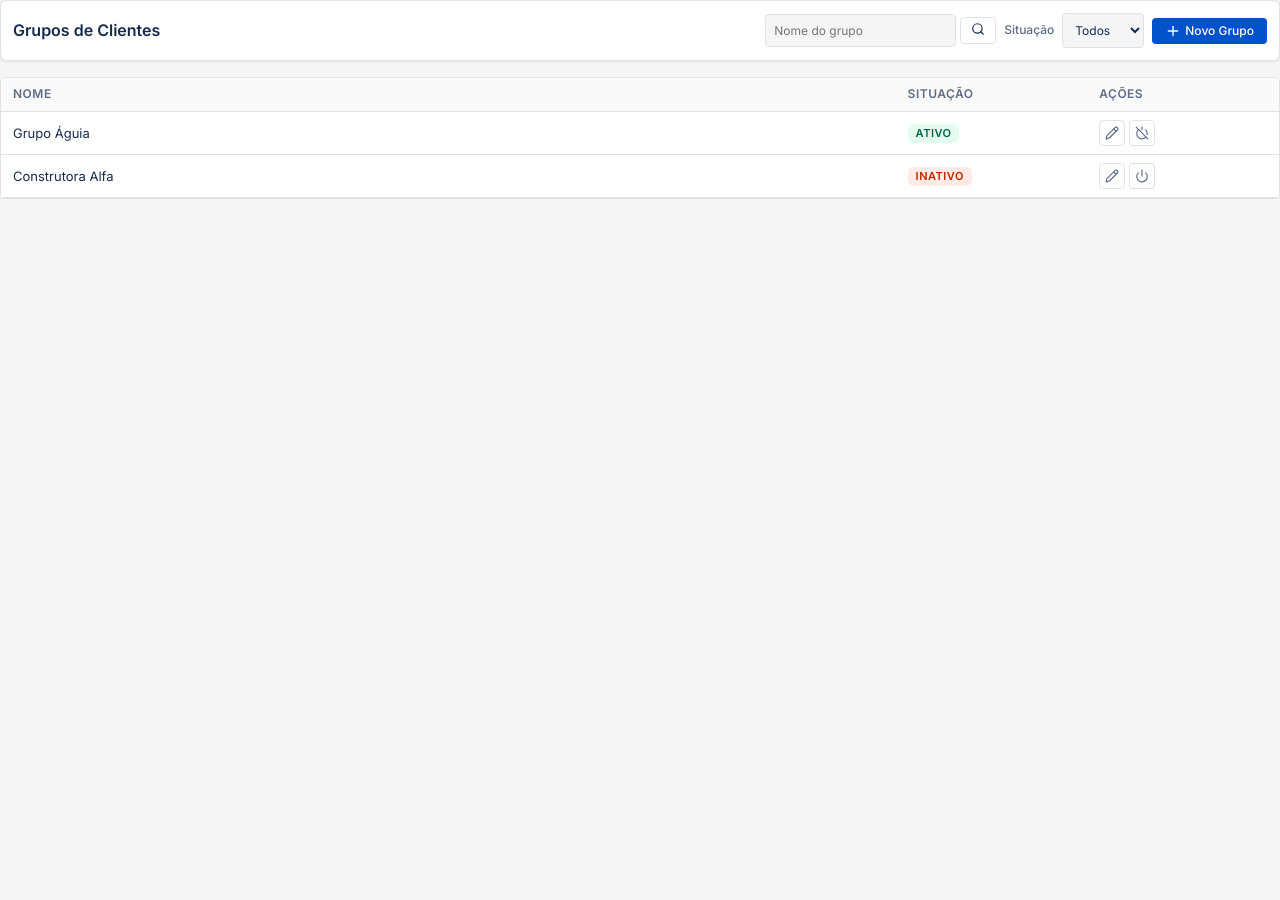
Scenario: GruposClientes › mostra o nome repetido como erro do formulário sem perder o que foi digitado
The image size is (1280, 900).
Check: the text "Grupo Águia" is shown, box x1=1 y1=111 x2=896 y2=154
Click the button "Novo Grupo" at coordinates (1210, 30), box x1=1152 y1=18 x2=1267 y2=44
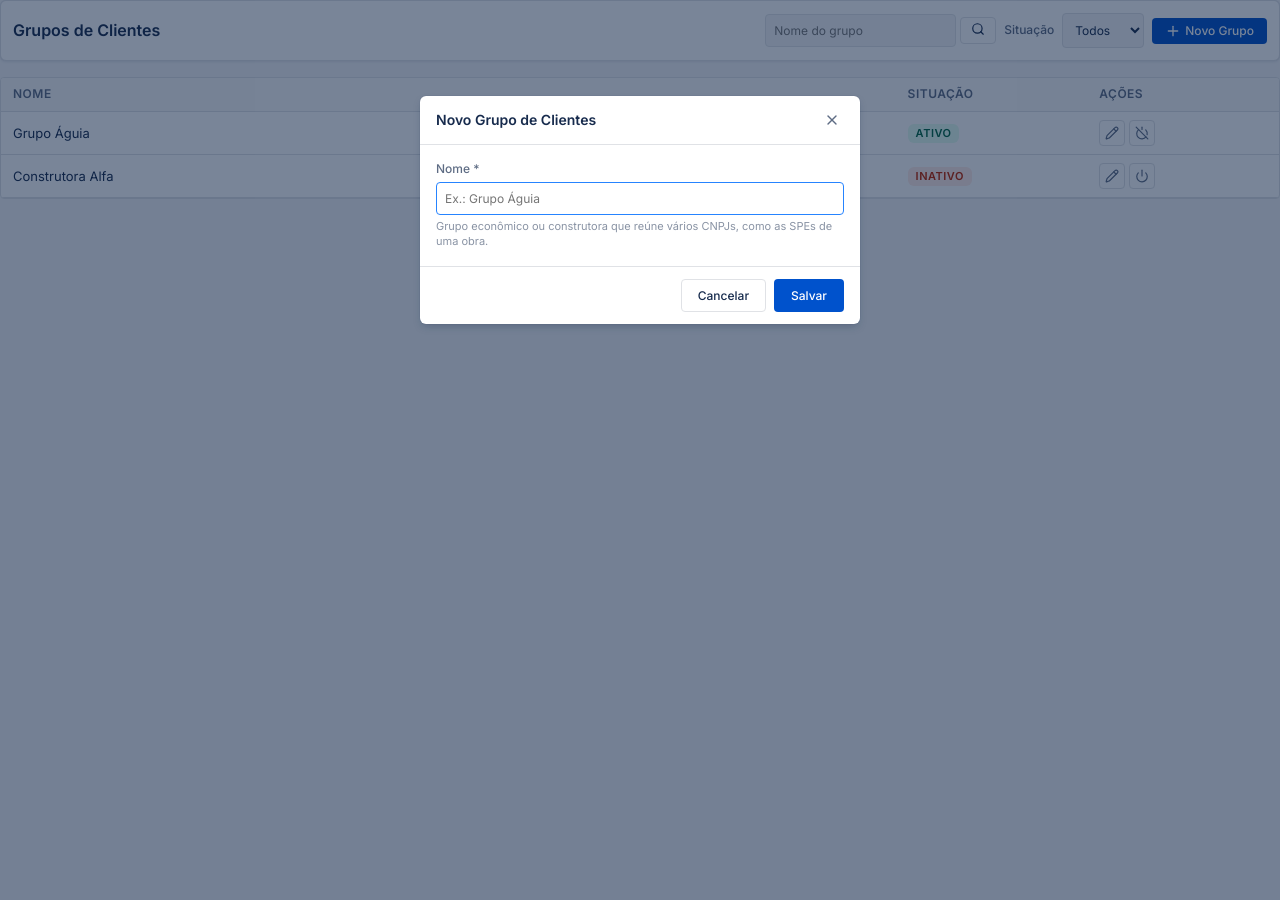
Type "grupo aguia" into the field labelled "Nome *" at coordinates (640, 198), box x1=436 y1=182 x2=844 y2=215
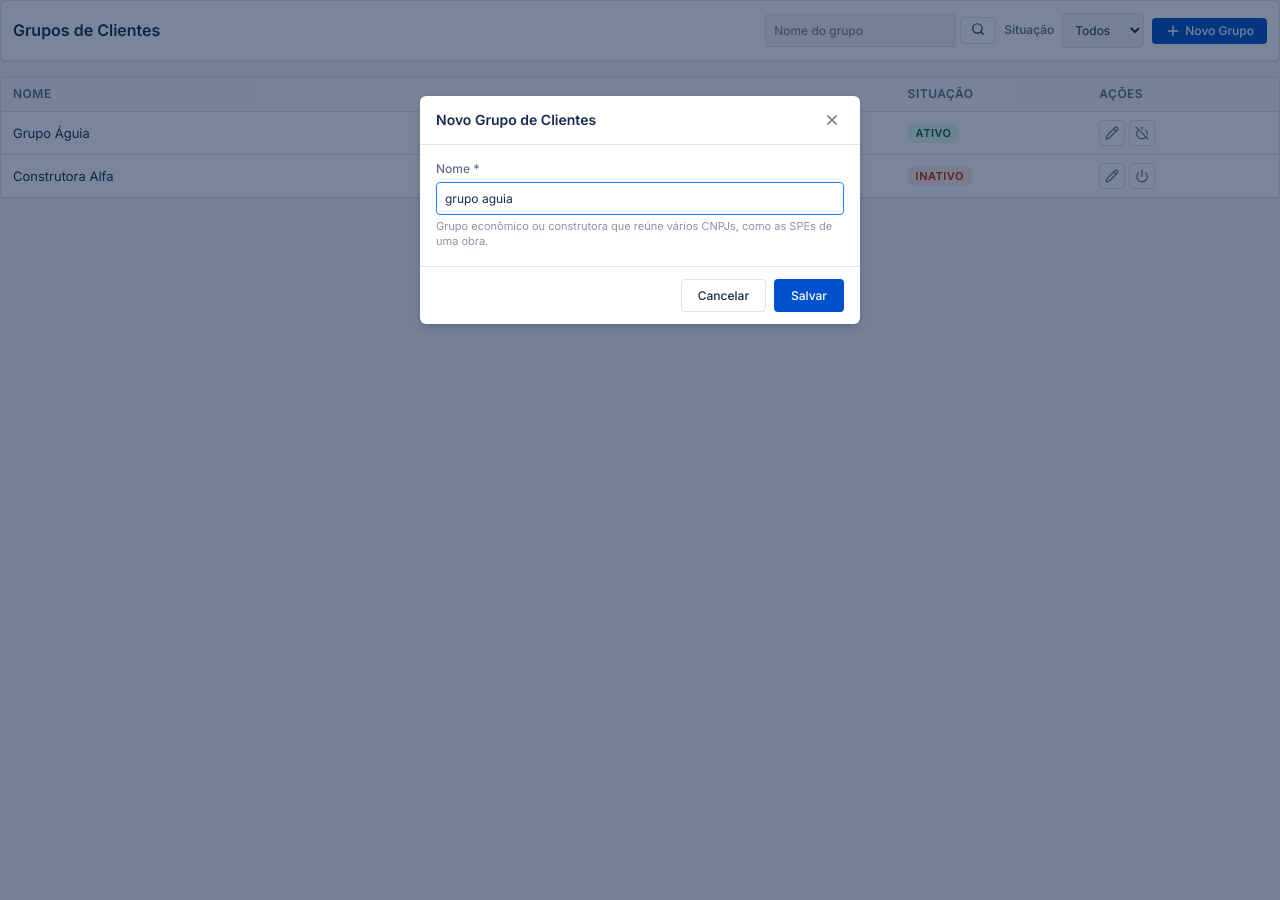
Click the button "Salvar" at coordinates (809, 295), box x1=774 y1=279 x2=844 y2=312
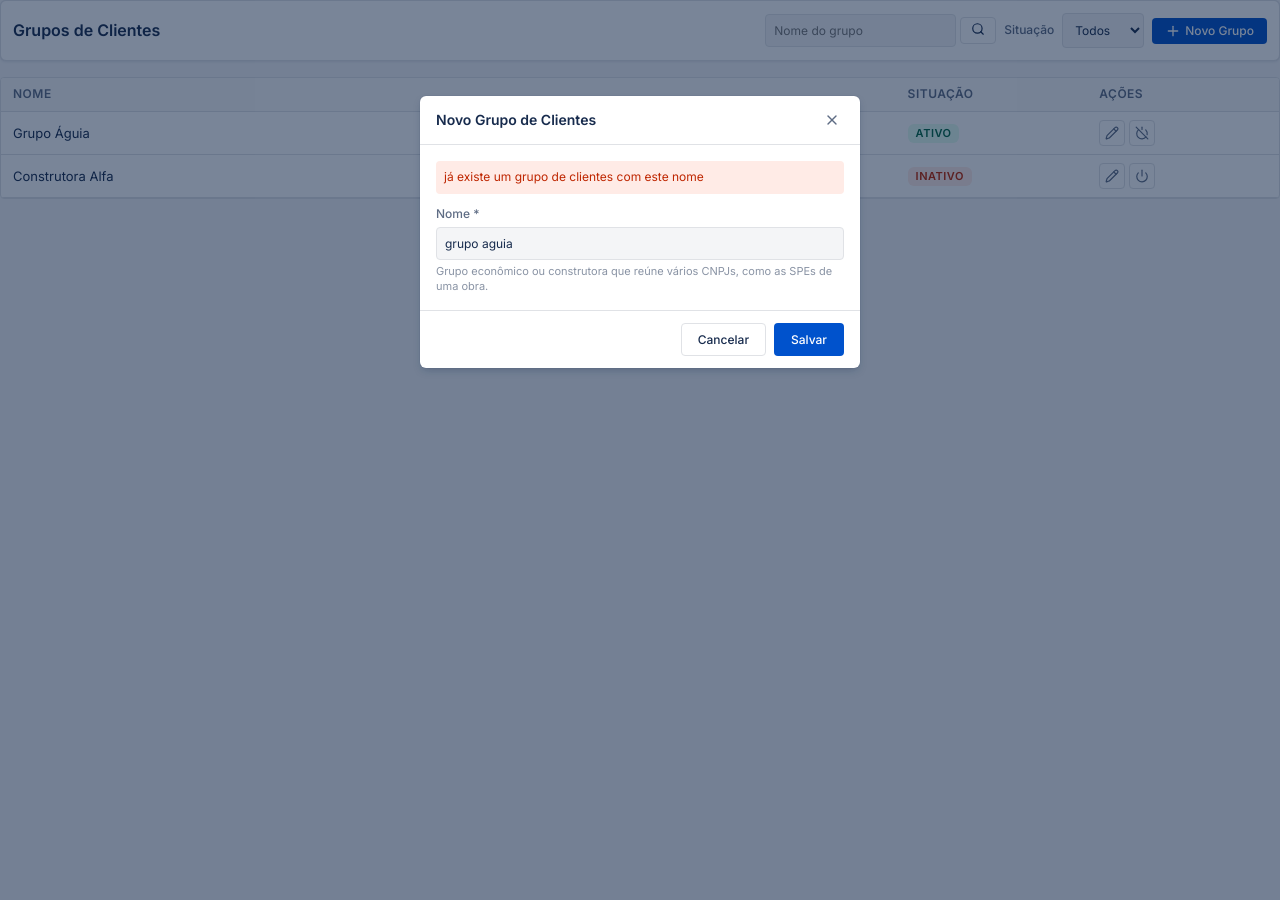
Check: the text "já existe um grupo de clientes com este nome" is shown, box x1=436 y1=161 x2=844 y2=194
